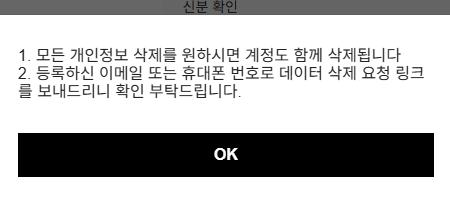button: (18, 131, 435, 177)
popup: (0, 16, 449, 200)
